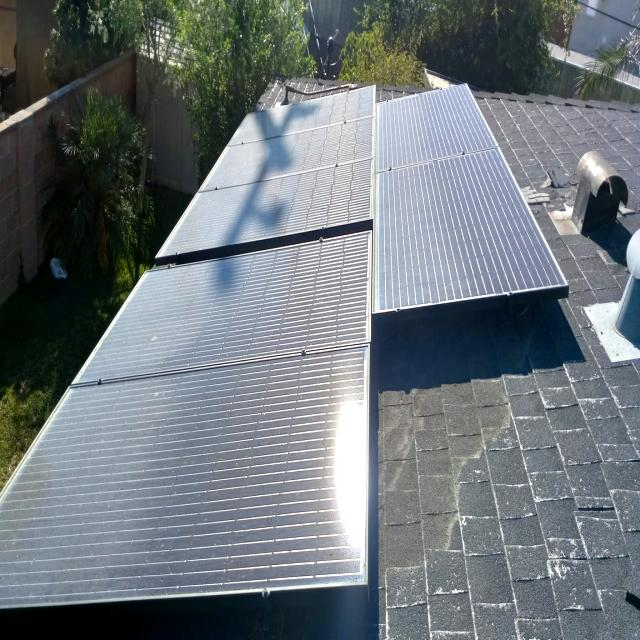dust: (26, 386, 160, 610), (139, 277, 234, 420), (232, 130, 312, 251), (182, 226, 242, 364)
